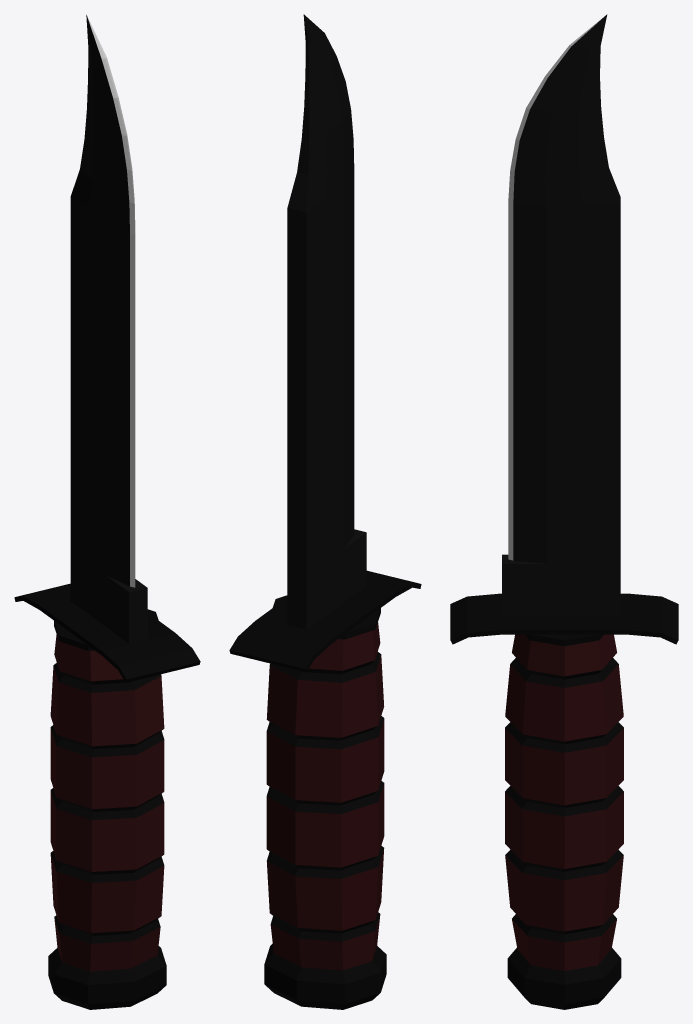
The model's file is KABAR.obj.
The picture shows the model from 3 angles, left to right: view 1: azimuth 30°, elevation 25°; view 2: azimuth 150°, elevation 25°; view 3: azimuth 270°, elevation 25°; orthographic projection. The views are drawn at different scales.
Parts seen in each view (by area): view 1: KABAR_Cylinder; view 2: KABAR_Cylinder; view 3: KABAR_Cylinder.
Boxes of the visible parts, x1,y1,x2,y2 form: KABAR_Cylinder: [14, 14, 200, 1009]; KABAR_Cylinder: [229, 14, 421, 1009]; KABAR_Cylinder: [450, 14, 678, 1009].
Bounding box in the file's own units: 0.0413 × 0.3529 × 0.0749.
